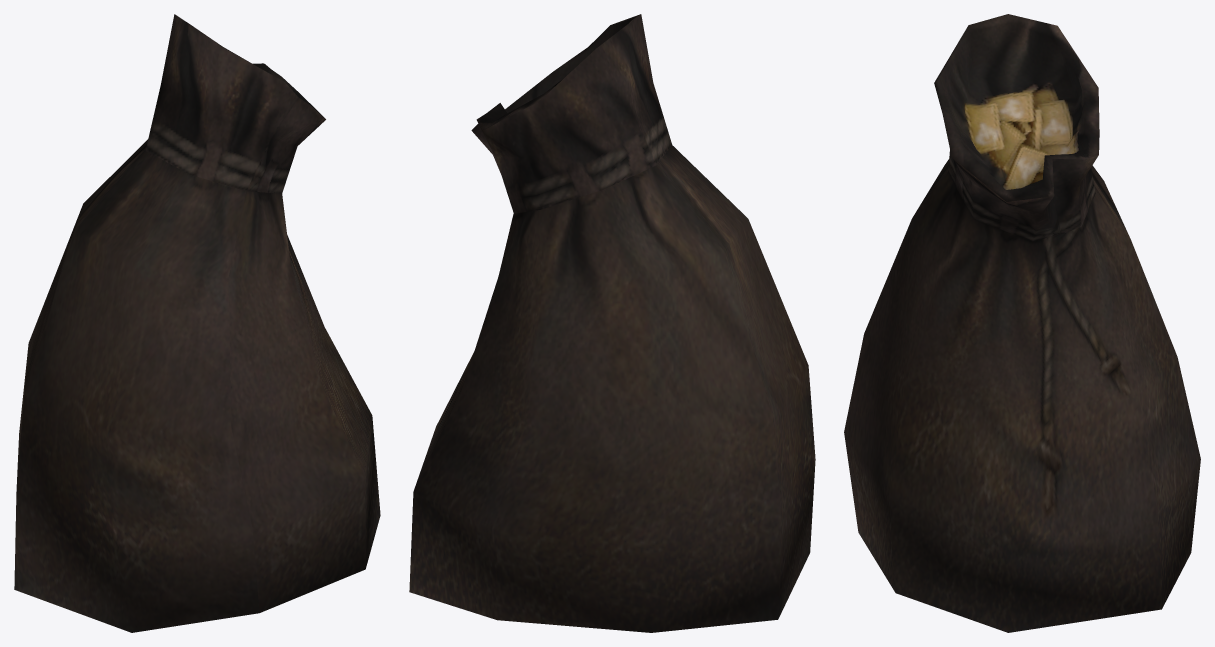
File: SM_TreasureBags02.FBX
3 renders of one model, left to right at view 1: azimuth 30°, elevation 25°; view 2: azimuth 150°, elevation 25°; view 3: azimuth 270°, elevation 25°, orthographic. The views are drawn at different scales.
Visible parts, largest first — view 1: SM_TreasureBags02; view 2: SM_TreasureBags02; view 3: SM_TreasureBags02.
Boxes of the visible parts, x1,y1,x2,y2 form: SM_TreasureBags02: [14, 14, 380, 632]; SM_TreasureBags02: [409, 14, 815, 632]; SM_TreasureBags02: [844, 14, 1200, 632].
Size of what is drawn, in the model's own units: 19.85 by 17.72 by 29.43.
